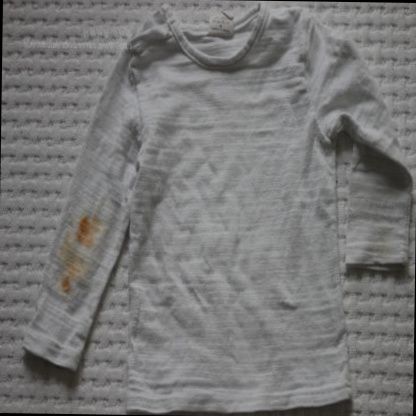kimchi: (50, 208, 106, 299), (74, 214, 96, 241), (52, 271, 70, 297)
